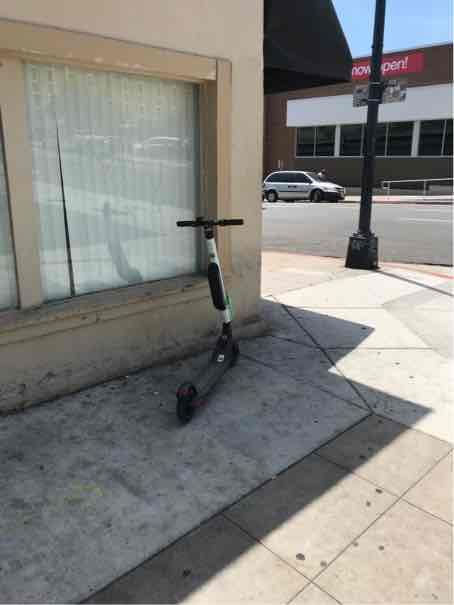scooter: (159, 222, 261, 421)
